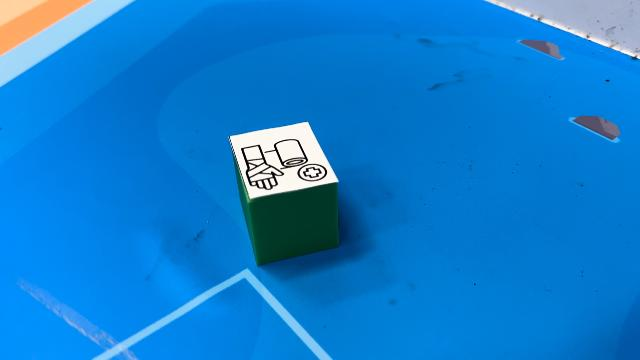bandage: (226, 120, 342, 266)
